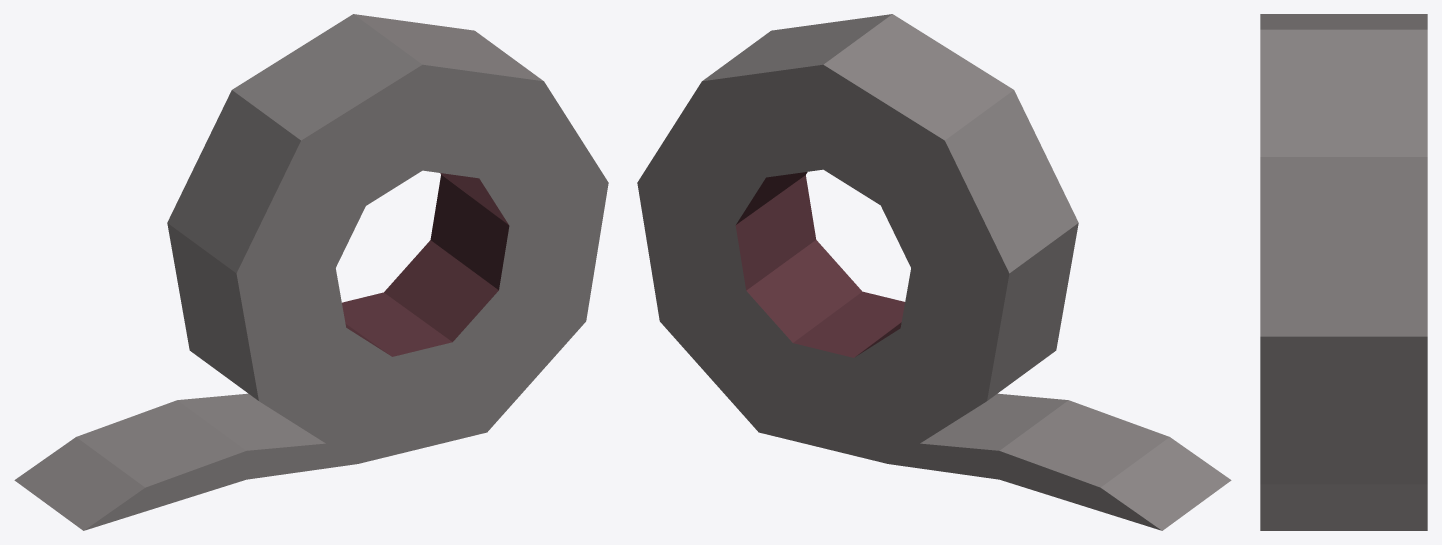
The model's file is duct-tape.fbx.
3 views of the same model, side by side, from view 1: azimuth 30°, elevation 25°; view 2: azimuth 150°, elevation 25°; view 3: azimuth 270°, elevation 25° (orthographic). The views are drawn at different scales.
Parts seen in each view (by area): view 1: duct-tape; view 2: duct-tape; view 3: duct-tape.
Boxes of the visible parts, x1,y1,x2,y2 form: duct-tape: [14, 14, 608, 530]; duct-tape: [637, 14, 1231, 530]; duct-tape: [1260, 14, 1427, 530].
Size of the model in its own units: 0.2101 by 0.1466 by 0.048.
